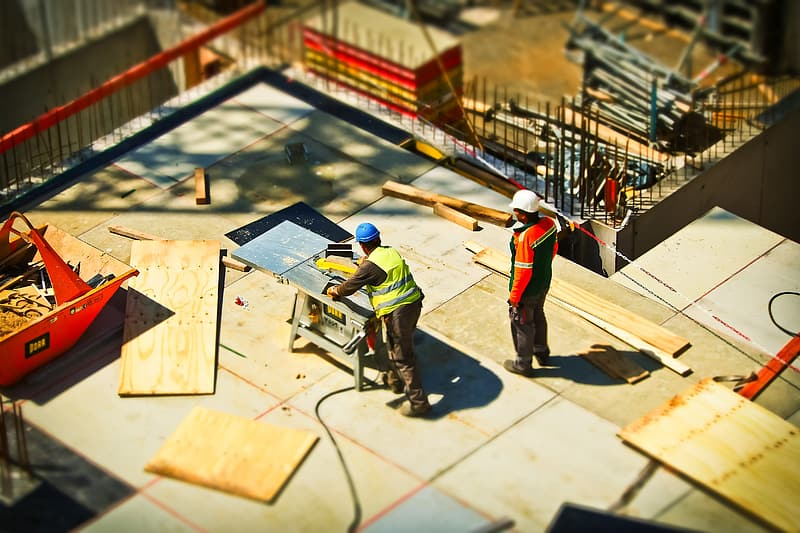Hard Hat: (509, 191, 543, 226), (354, 225, 383, 256)
Person: (330, 225, 430, 415), (506, 191, 561, 376)
Vest: (351, 243, 422, 318)
